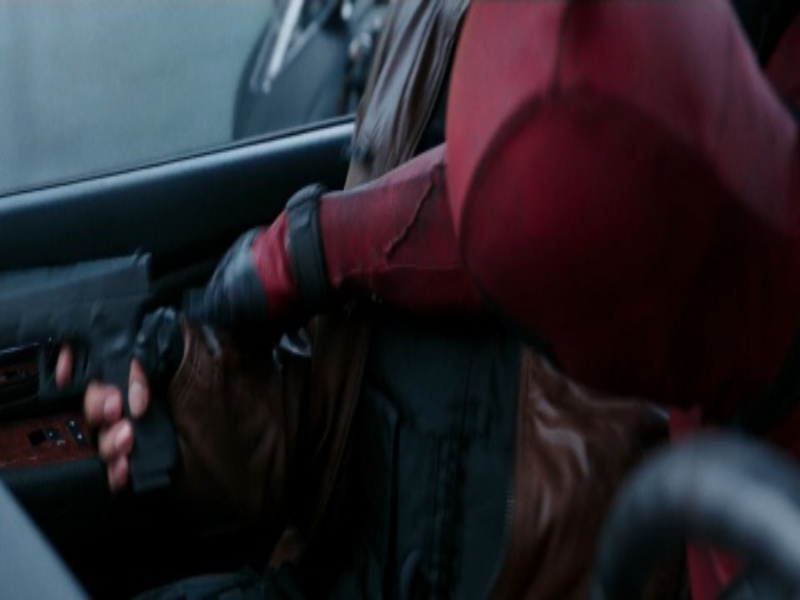weapon: (1, 250, 187, 476)
